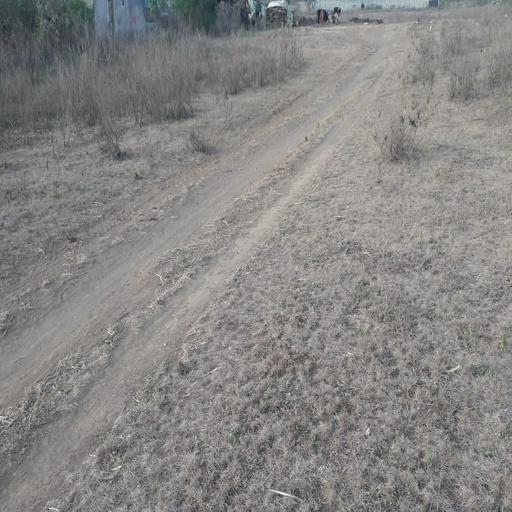vehicle_track: (0, 74, 383, 512), (0, 56, 375, 413)
